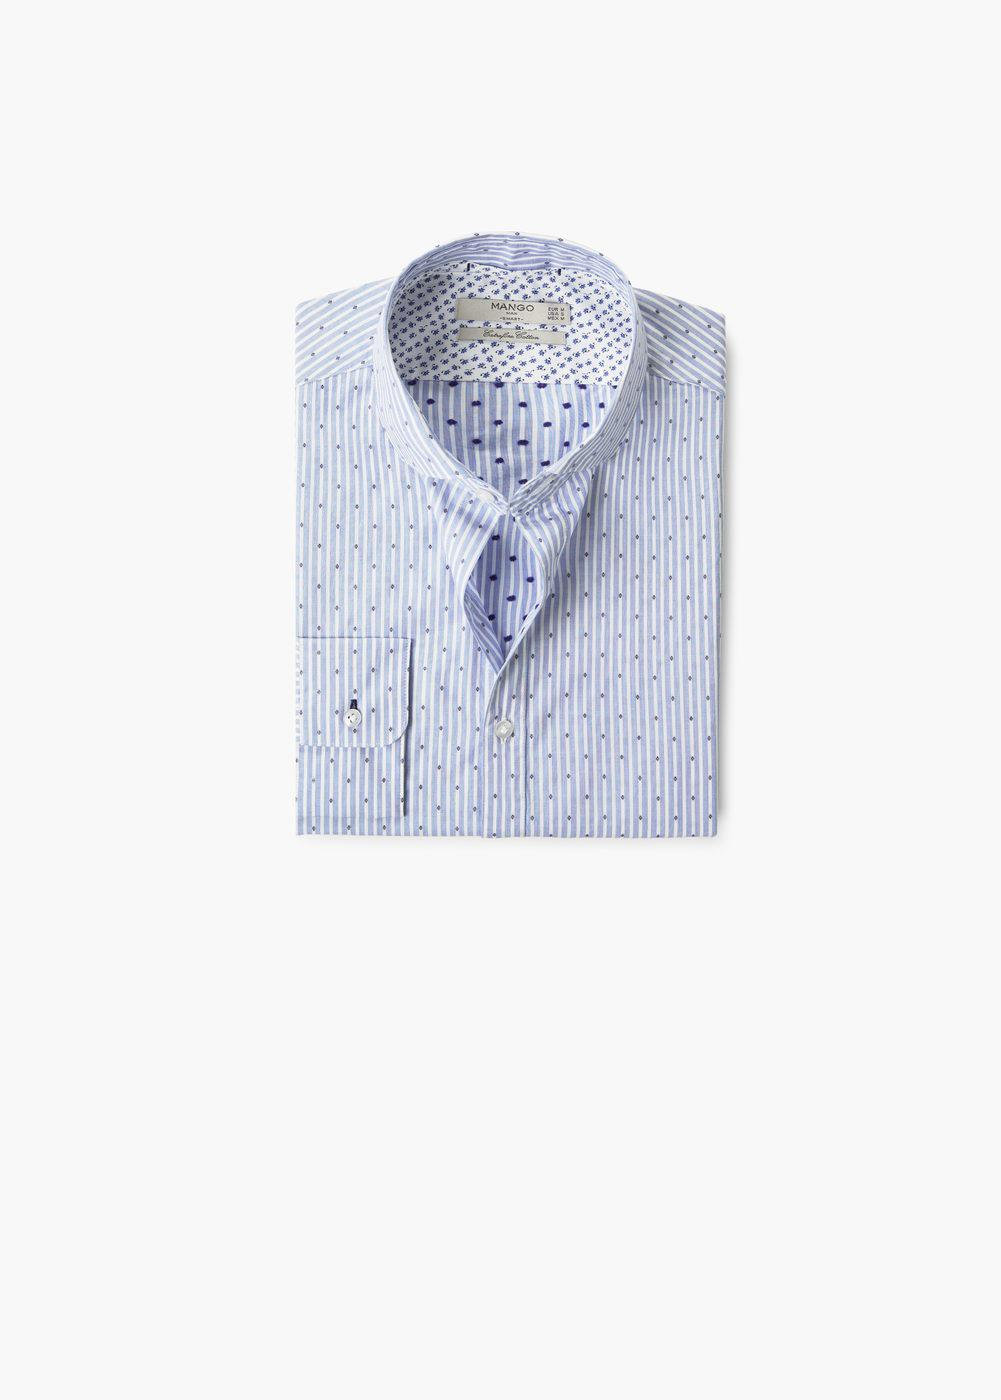teeshirt: (274, 214, 744, 908)
